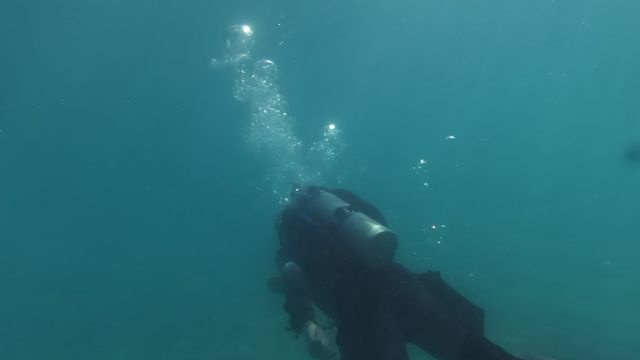Diver: (241, 175, 543, 357)
Hand: (291, 313, 346, 352)
